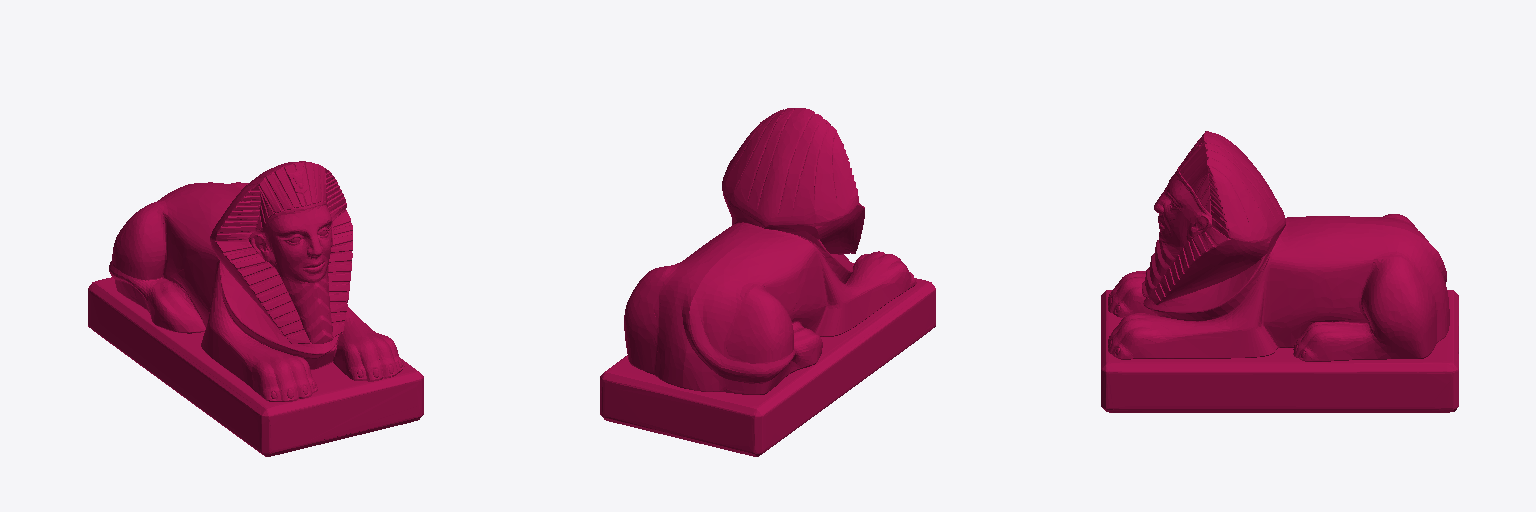
3 renders of one model, left to right at view 1: azimuth 30°, elevation 25°; view 2: azimuth 150°, elevation 25°; view 3: azimuth 270°, elevation 25°, orthographic.
Visible parts, largest first — view 1: Arch34_046_obj_00; view 2: Arch34_046_obj_00; view 3: Arch34_046_obj_00.
Part boxes in pixels (x1,y1,x2,y2): Arch34_046_obj_00: (88, 161, 423, 456); Arch34_046_obj_00: (600, 108, 935, 456); Arch34_046_obj_00: (1101, 131, 1458, 412).
Size of the model in its own units: 3093 by 4332 by 5867.